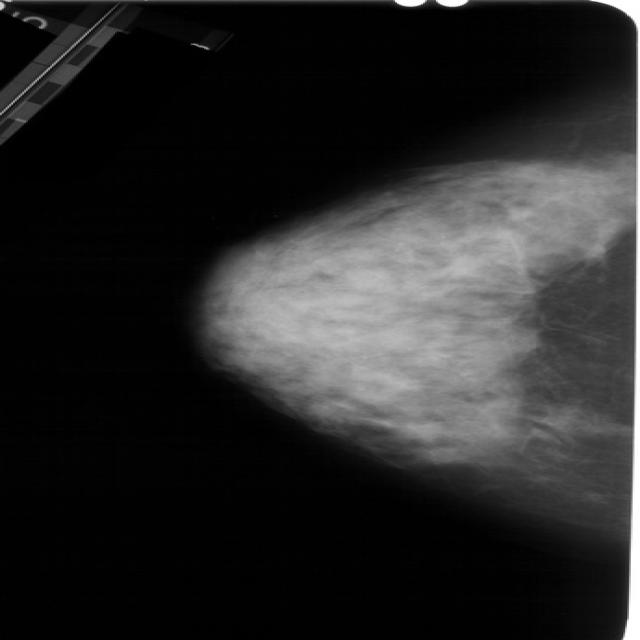tumour: (503, 278, 536, 306)
